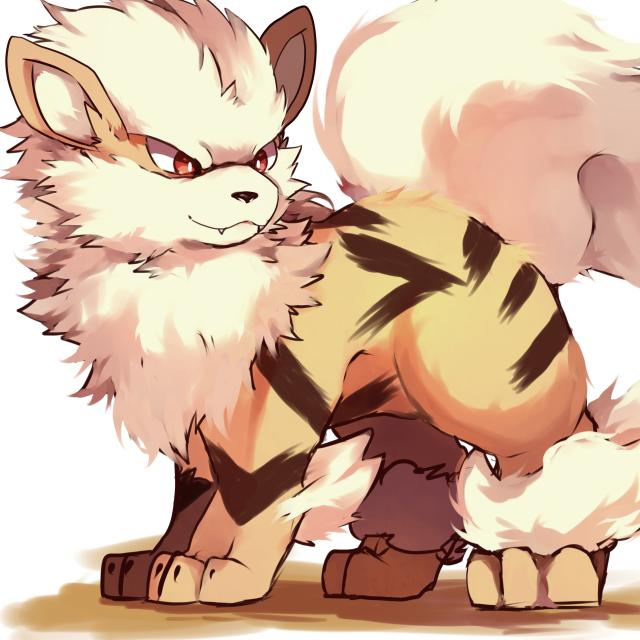Arcanine: (29, 18, 592, 600)
